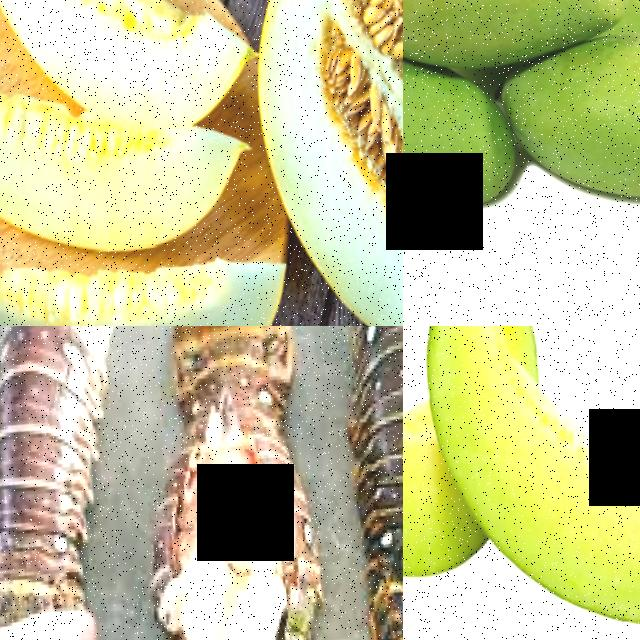lobster tails: (123, 326, 343, 572), (0, 326, 141, 609), (294, 326, 403, 640)
mango: (506, 0, 640, 221), (403, 22, 532, 251), (403, 0, 640, 79)
melon: (0, 68, 274, 289), (461, 326, 640, 640), (237, 0, 403, 326), (0, 198, 322, 326), (0, 0, 233, 101), (403, 356, 473, 603)
